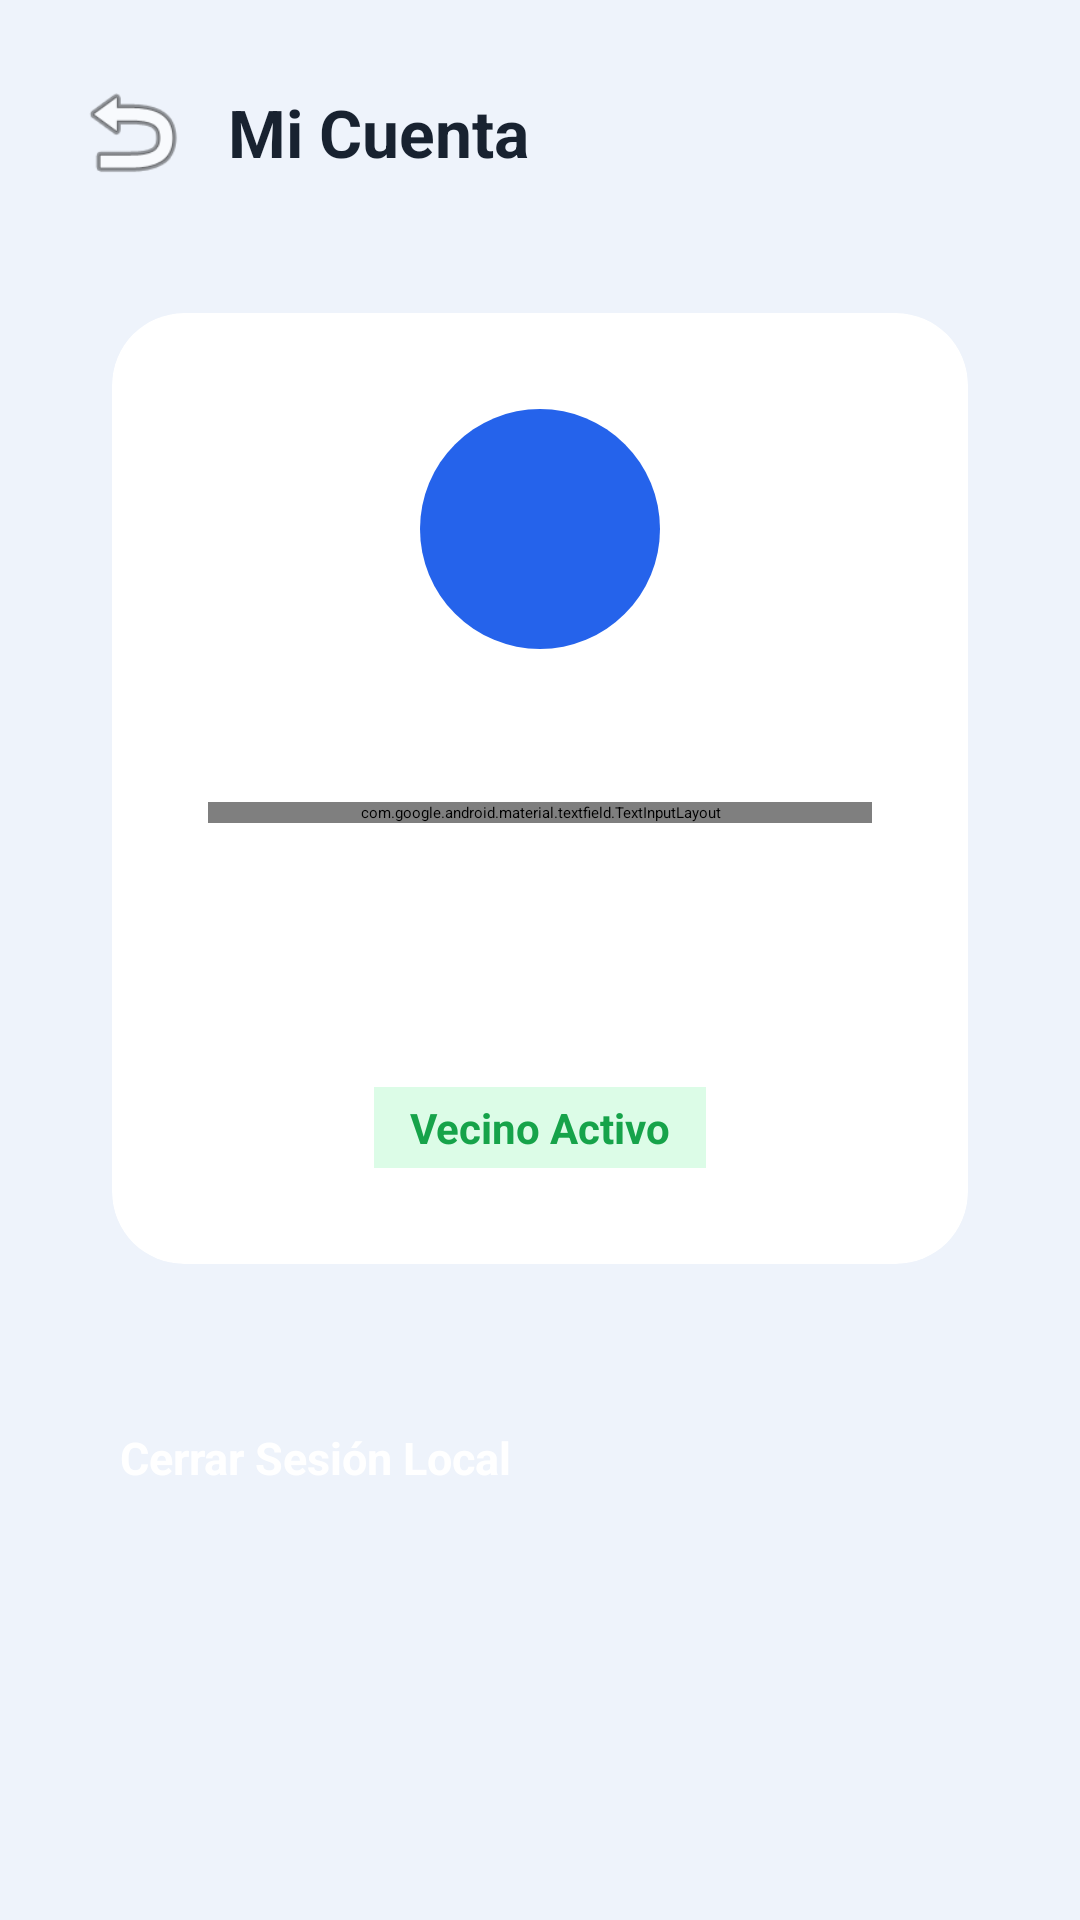

Where to tap for icons on this 1080px×1920px app screen, as (x=x, y=y):
revert: (x=133, y=133)
